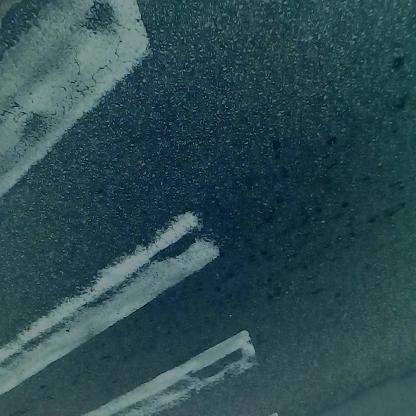crosswalk: (1, 17, 273, 413)
